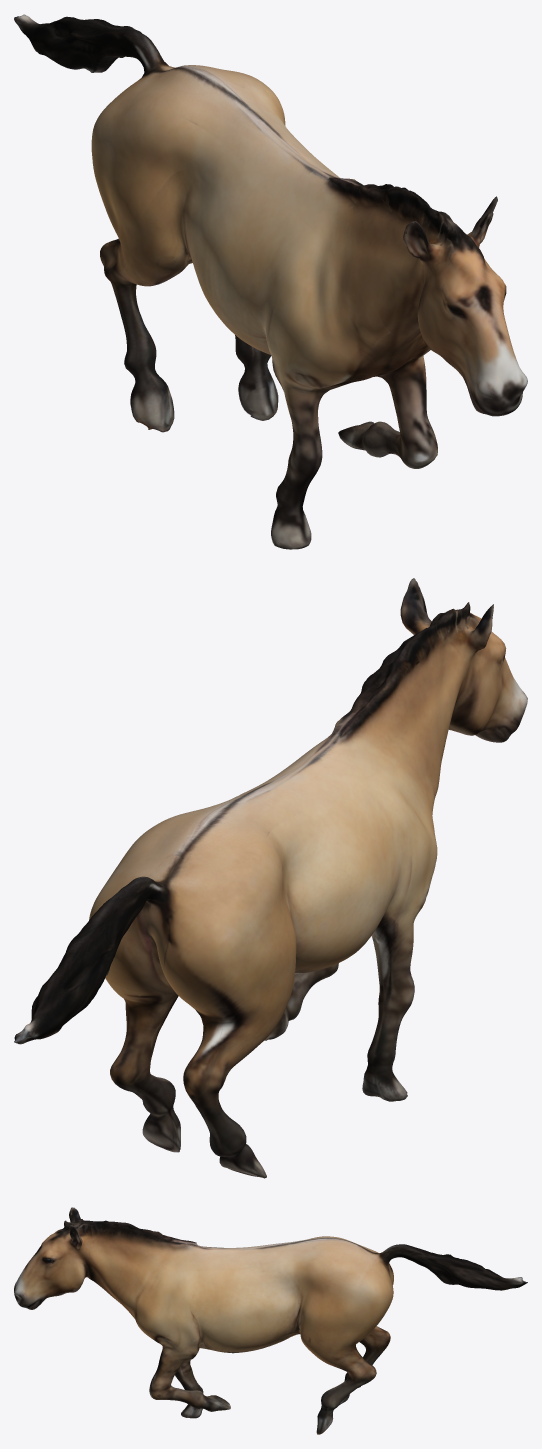
File: 2HorseNew.glb
3 renders of one model, top to bottom at view 1: azimuth 30°, elevation 25°; view 2: azimuth 150°, elevation 25°; view 3: azimuth 270°, elevation 25°, orthographic. The views are drawn at different scales.
Parts seen in each view (by area): view 1: Mesh_0; view 2: Mesh_0; view 3: Mesh_0.
Boxes of the visible parts, x1,y1,x2,y2 form: Mesh_0: (14, 14, 527, 549); Mesh_0: (14, 578, 527, 1178); Mesh_0: (14, 1207, 527, 1434).
Size of the model in its own units: 0.3821 by 0.9163 by 2.01.
Materials: 1 (1 with a texture image).
